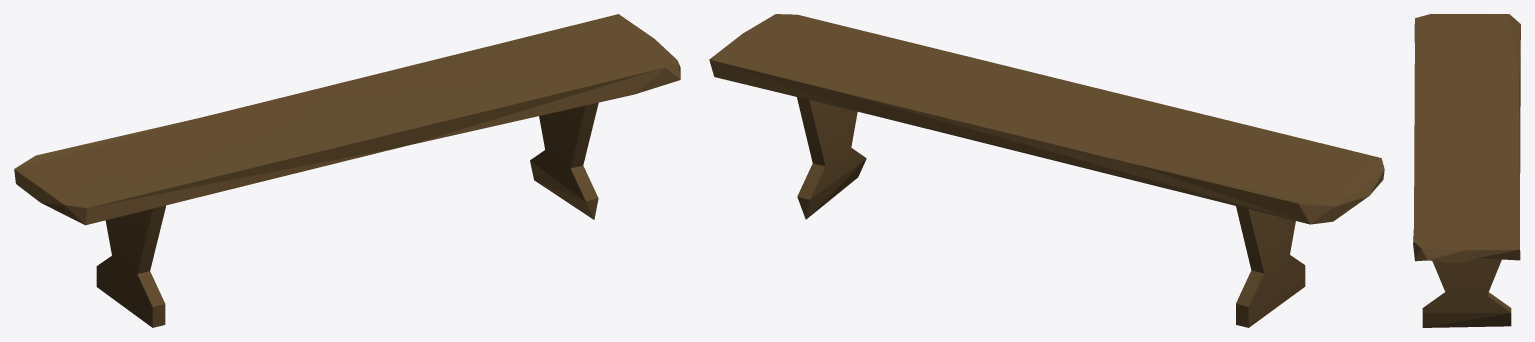
The model's file is Bench_01.fbx.
The picture shows the model from 3 angles, left to right: view 1: azimuth 30°, elevation 25°; view 2: azimuth 150°, elevation 25°; view 3: azimuth 270°, elevation 25°; orthographic projection. The views are drawn at different scales.
Visible parts, largest first — view 1: Bench_01; view 2: Bench_01; view 3: Bench_01.
Part boxes in pixels (<box>): Bench_01: <box>14,14,680,327</box>; Bench_01: <box>709,14,1384,327</box>; Bench_01: <box>1413,14,1520,327</box>.
Bounding box in the file's own units: 2.3 × 0.499 × 0.4371.
